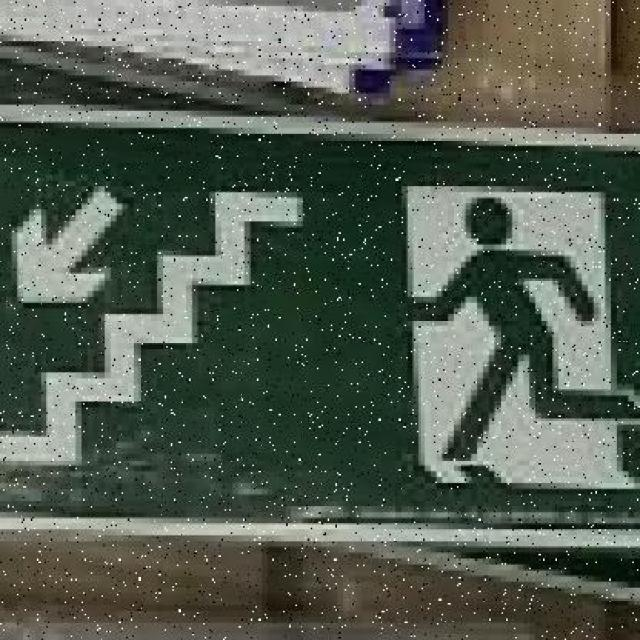emergency_exit: (1, 120, 639, 538)
